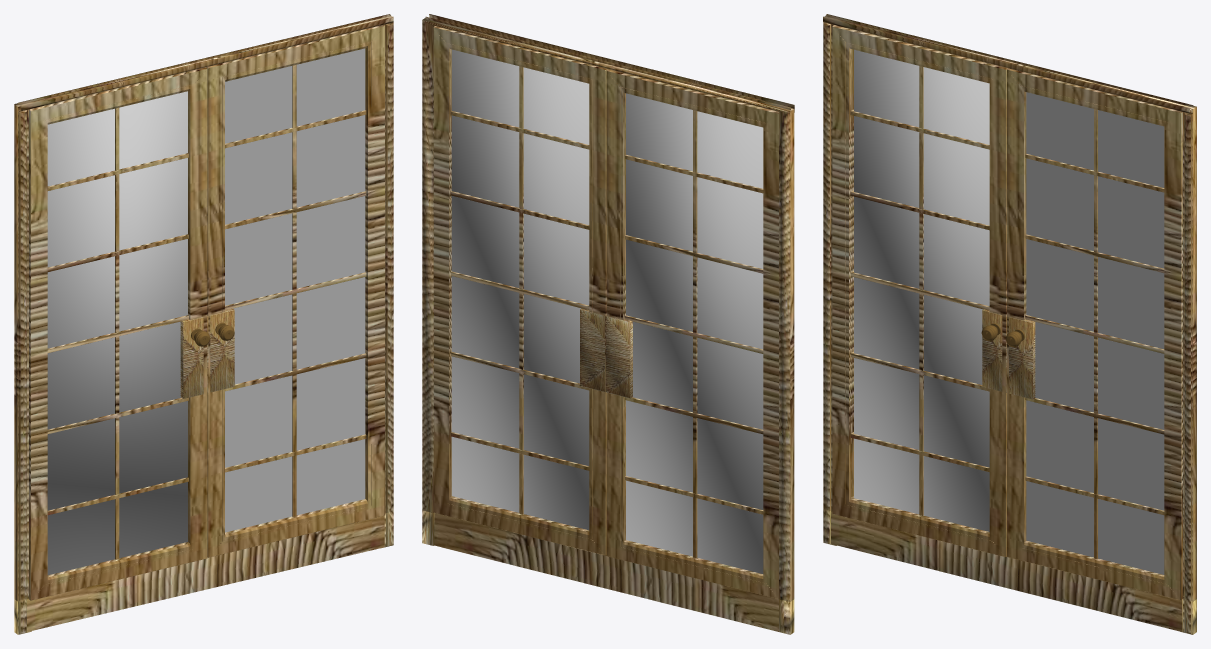
Rendered from finestra.fbx.
The picture shows the model from 3 angles, left to right: view 1: azimuth 30°, elevation 25°; view 2: azimuth 150°, elevation 25°; view 3: azimuth 330°, elevation 25°; orthographic projection.
Visible parts, largest first — view 1: Vetro_dx, Vetro_sx, Finestra_sx, Finestra_dx, Cornice, Box_sx, Box_dx; view 2: Vetro_dx, Vetro_sx, Cornice, Finestra_dx, Finestra_sx, Box_sx, Box_dx; view 3: Vetro_dx, Vetro_sx, Finestra_sx, Finestra_dx, Cornice, Box_dx, Box_sx.
Part boxes in pixels (bbox=[...]): Vetro_dx: bbox=[225, 48, 365, 532]; Vetro_sx: bbox=[47, 91, 187, 575]; Finestra_sx: bbox=[29, 67, 207, 600]; Finestra_dx: bbox=[206, 25, 384, 557]; Cornice: bbox=[14, 14, 393, 634]; Box_sx: bbox=[180, 316, 208, 398]; Box_dx: bbox=[210, 308, 234, 392]; Vetro_dx: bbox=[451, 49, 589, 530]; Vetro_sx: bbox=[626, 93, 763, 573]; Cornice: bbox=[422, 14, 794, 634]; Finestra_dx: bbox=[433, 26, 607, 555]; Finestra_sx: bbox=[606, 69, 778, 598]; Box_sx: bbox=[605, 316, 632, 398]; Box_dx: bbox=[580, 308, 604, 391]; Vetro_dx: bbox=[1026, 92, 1164, 574]; Vetro_sx: bbox=[854, 49, 989, 531]; Finestra_sx: bbox=[832, 25, 1007, 556]; Finestra_dx: bbox=[1007, 68, 1182, 600]; Cornice: bbox=[823, 14, 1196, 634]; Box_dx: bbox=[1009, 317, 1035, 399]; Box_sx: bbox=[982, 309, 1006, 392].
Bounding box in the file's own units: 269 × 365 × 19.24.
